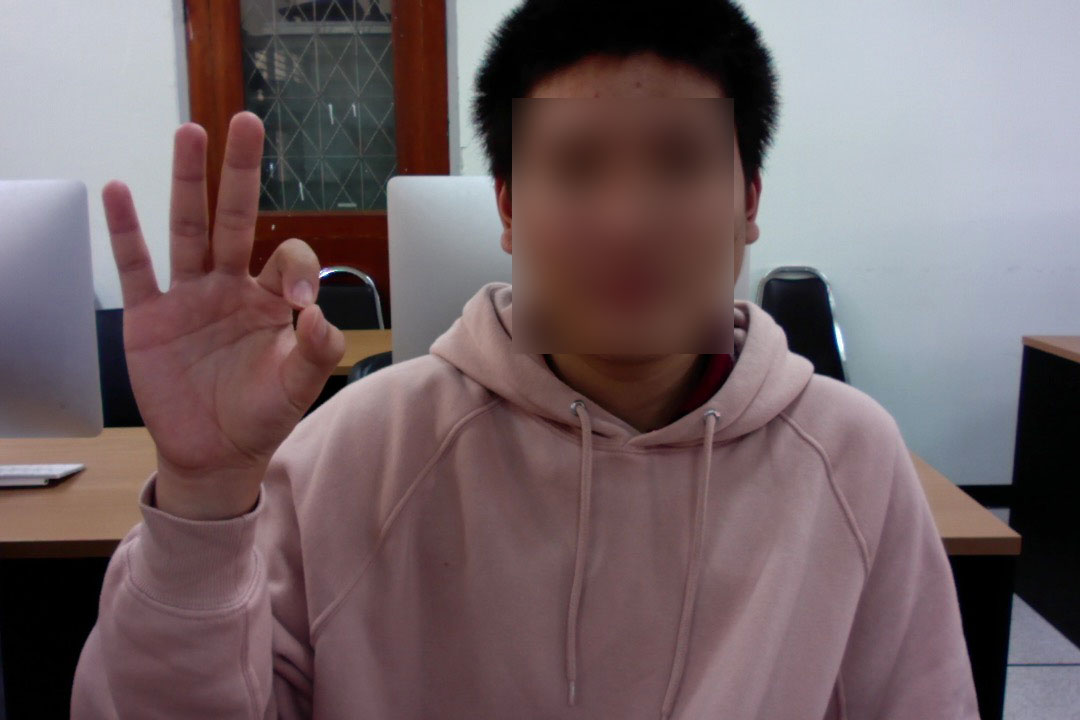for: (70, 100, 360, 516)
